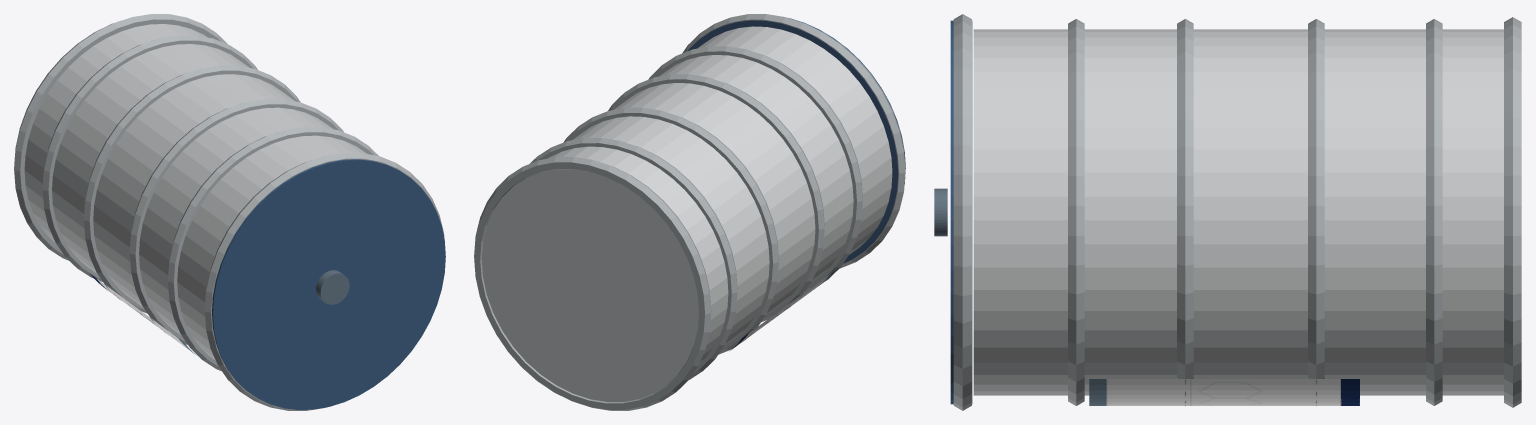
Rendered from fut-200l.glb.
The picture shows the model from 3 angles, left to right: view 1: azimuth 30°, elevation 25°; view 2: azimuth 150°, elevation 25°; view 3: azimuth 270°, elevation 25°; orthographic projection. The views are drawn at different scales.
Parts seen in each view (by area): view 1: drum-body, top-lid, bottom-rim, reinforcing-ring-0, reinforcing-ring-1, reinforcing-ring-3, reinforcing-ring-2, top-rim, bung, nextgen-original-label; view 2: drum-body, bottom-rim, reinforcing-ring-1, reinforcing-ring-2, reinforcing-ring-3, reinforcing-ring-0, top-rim, top-lid, nextgen-original-label; view 3: drum-body, top-rim, nextgen-original-label, bottom-rim, reinforcing-ring-0, reinforcing-ring-3, reinforcing-ring-1, reinforcing-ring-2, top-lid, bung.
Boxes of the visible parts, x1,y1,x2,y2 form: drum-body: (24, 24, 366, 360); top-lid: (212, 159, 445, 409); bottom-rim: (14, 14, 227, 260); reinforcing-ring-0: (42, 35, 257, 281); reinforcing-ring-1: (84, 65, 300, 313); reinforcing-ring-3: (168, 127, 378, 371); reinforcing-ring-2: (129, 99, 343, 344); top-rim: (204, 153, 444, 410); bung: (316, 270, 349, 304); nextgen-original-label: (90, 274, 196, 355); drum-body: (481, 26, 892, 401); bottom-rim: (474, 157, 711, 410); reinforcing-ring-1: (563, 107, 778, 354); reinforcing-ring-2: (608, 74, 824, 321); reinforcing-ring-3: (648, 46, 862, 291); reinforcing-ring-0: (530, 138, 737, 379); top-rim: (682, 14, 905, 268); top-lid: (688, 18, 905, 263); nextgen-original-label: (730, 269, 836, 350); drum-body: (973, 29, 1503, 395); top-rim: (953, 14, 971, 410); nextgen-original-label: (1089, 379, 1359, 405); bottom-rim: (1504, 17, 1521, 407); reinforcing-ring-0: (1426, 19, 1442, 405); reinforcing-ring-3: (1068, 19, 1084, 405); reinforcing-ring-1: (1308, 19, 1324, 405); reinforcing-ring-2: (1177, 19, 1193, 405); top-lid: (950, 20, 972, 404); bung: (934, 188, 947, 236).
Size of the model in its own units: 0.91 by 0.91 by 1.34.
1 material, 1 textured.
